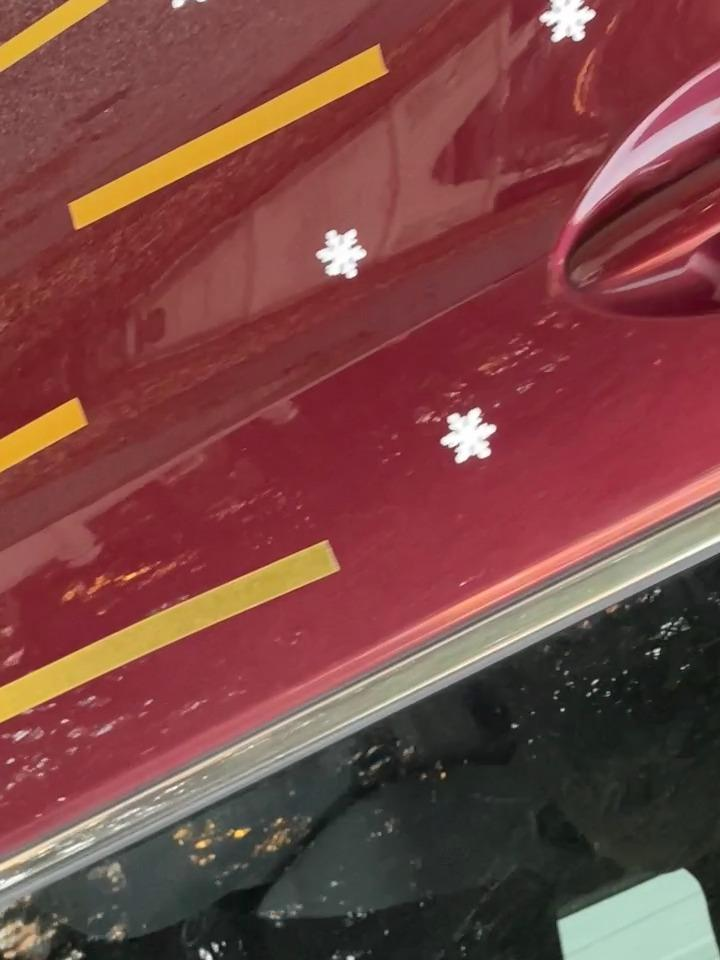dent: (436, 399, 508, 474), (538, 0, 608, 69), (311, 221, 370, 298), (151, 0, 230, 10)
scratch: (66, 34, 397, 249), (1, 531, 351, 726), (0, 381, 93, 489), (0, 0, 117, 79)
